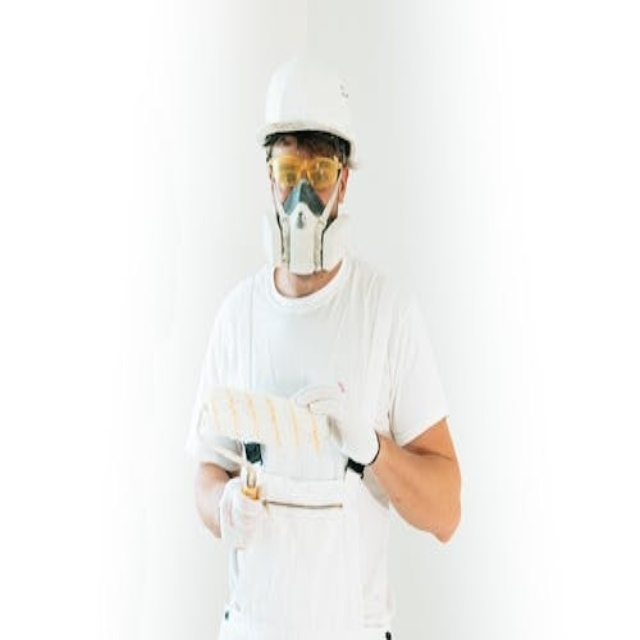Gafas: (268, 153, 344, 190)
Guantes: (288, 379, 380, 477), (216, 469, 271, 561)
Mascara: (268, 186, 352, 281)
